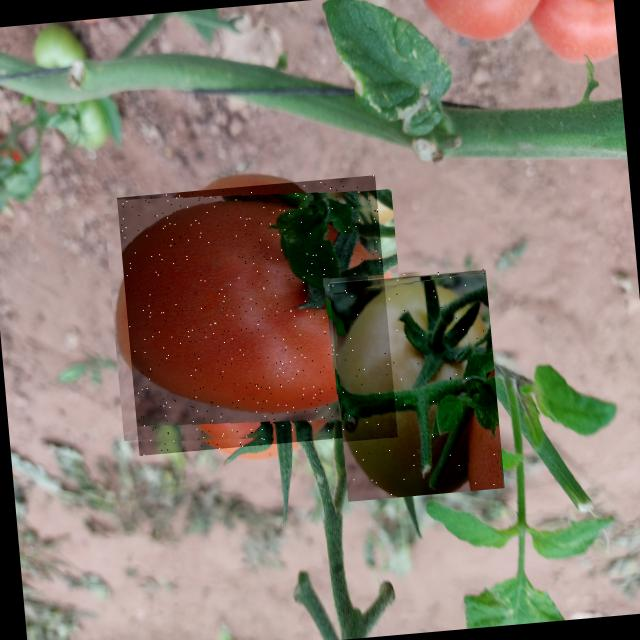Ripe Tomato: (116, 174, 398, 456)
Unripe Tomato: (328, 266, 504, 501)
